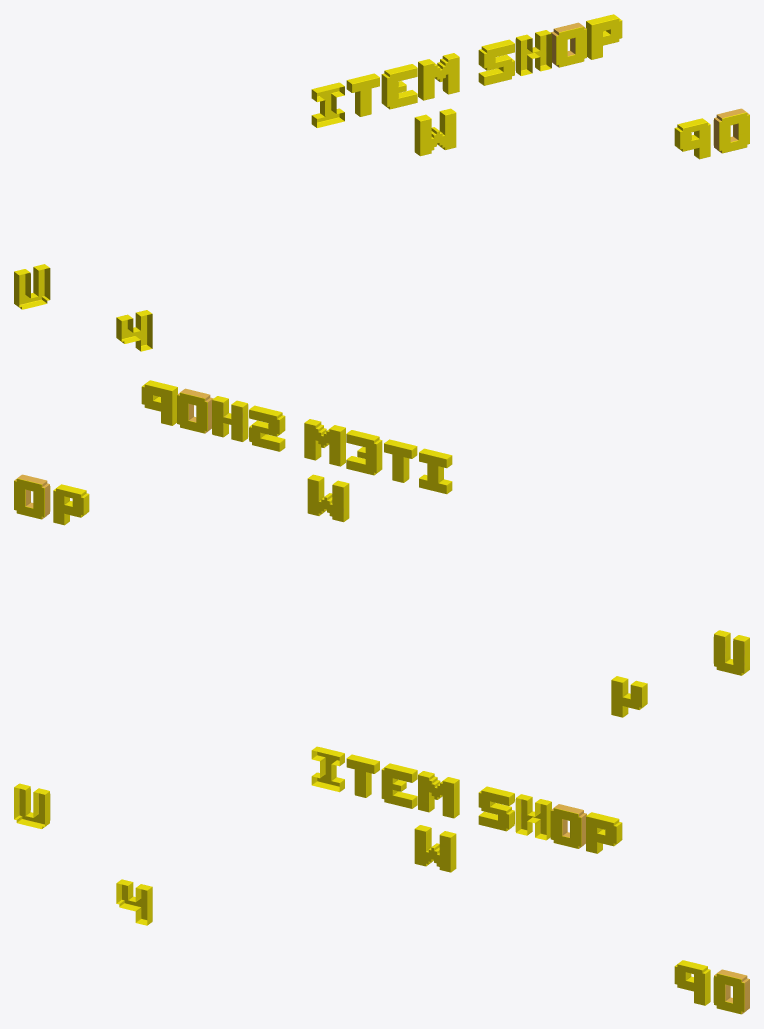
Rendered from itemShop_font.glb.
3 renders of one model, top to bottom at view 1: azimuth 30°, elevation 25°; view 2: azimuth 150°, elevation 25°; view 3: azimuth 330°, elevation 25°, orthographic.
Parts seen in each view (by area): view 1: Object_25, Object_48, Object_29, Object_45.001, Object_53, Object_25.001, Object_9, Object_30, Object_55, Object_46.001; view 2: Object_25, Object_30, Object_48, Object_45.001, Object_53, Object_25.001, Object_9, Object_55, Object_46.001; view 3: Object_25, Object_48, Object_29, Object_45.001, Object_53, Object_25.001, Object_9, Object_30, Object_46.001, Object_55.
Boxes of the visible parts, box(x1,y1,x2,y2) form: Object_25: box(14, 82, 344, 351); Object_48: box(586, 14, 710, 159); Object_29: box(420, 57, 459, 156); Object_45.001: box(550, 26, 749, 153); Object_53: box(478, 39, 514, 85); Object_25.001: box(515, 30, 551, 75); Object_9: box(381, 64, 417, 109); Object_30: box(414, 53, 458, 155); Object_55: box(346, 73, 379, 116); Object_46.001: box(551, 22, 749, 153); Object_25: box(419, 448, 749, 717); Object_30: box(304, 419, 349, 522); Object_48: box(53, 380, 177, 525); Object_45.001: box(14, 389, 213, 519); Object_53: box(249, 405, 285, 451); Object_25.001: box(212, 396, 248, 441); Object_9: box(346, 430, 382, 475); Object_55: box(384, 439, 417, 482); Object_46.001: box(14, 388, 212, 518); Object_25: box(14, 746, 344, 925); Object_48: box(586, 812, 710, 1005); Object_29: box(414, 774, 454, 872); Object_45.001: box(550, 808, 749, 1014); Object_53: box(478, 786, 514, 831); Object_25.001: box(515, 794, 551, 840); Object_9: box(381, 763, 417, 808); Object_30: box(415, 771, 459, 872); Object_46.001: box(551, 804, 749, 1013); Object_55: box(346, 754, 379, 797).
Bounding box in the file's own units: 3.87 × 1.1 × 0.0517.
